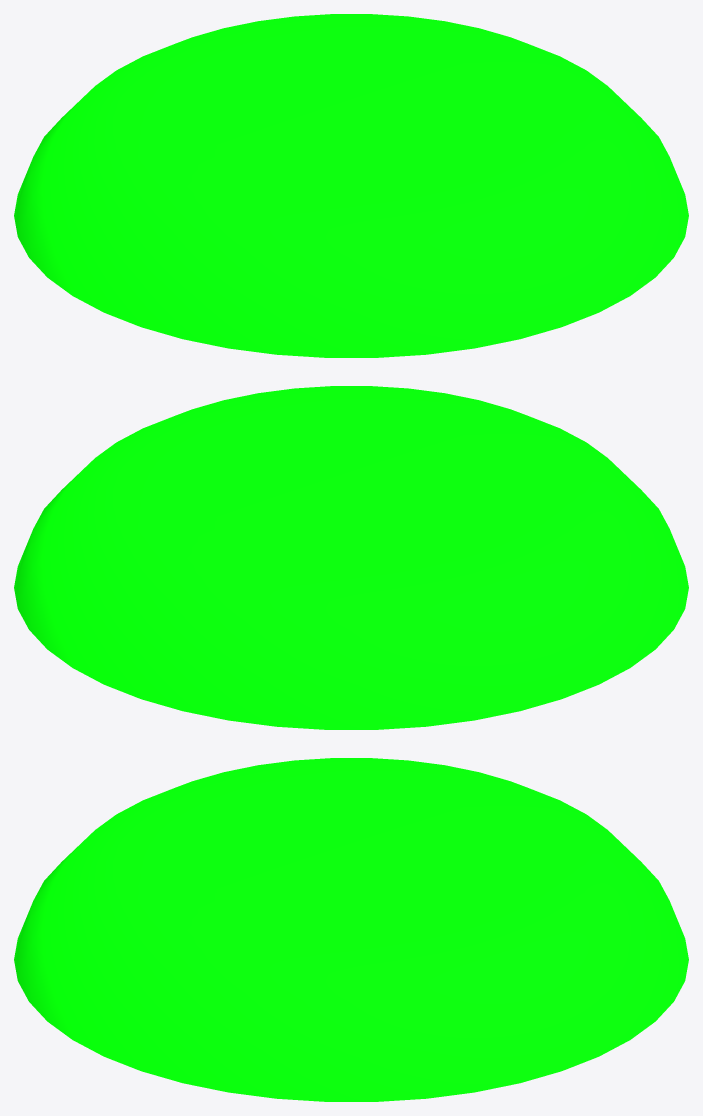
Rendered from Botao verde (1).fbx.
The picture shows the model from 3 angles, top to bottom: view 1: azimuth 30°, elevation 25°; view 2: azimuth 150°, elevation 25°; view 3: azimuth 270°, elevation 25°; orthographic projection.
Visible parts, largest first — view 1: Botao verde; view 2: Botao verde; view 3: Botao verde.
Boxes of the visible parts, box(x1,y1,x2,y2) form: Botao verde: box(14, 14, 688, 357); Botao verde: box(14, 386, 688, 729); Botao verde: box(14, 758, 688, 1101).
Size of the model in its own units: 13.9 by 2.4 by 13.94.
